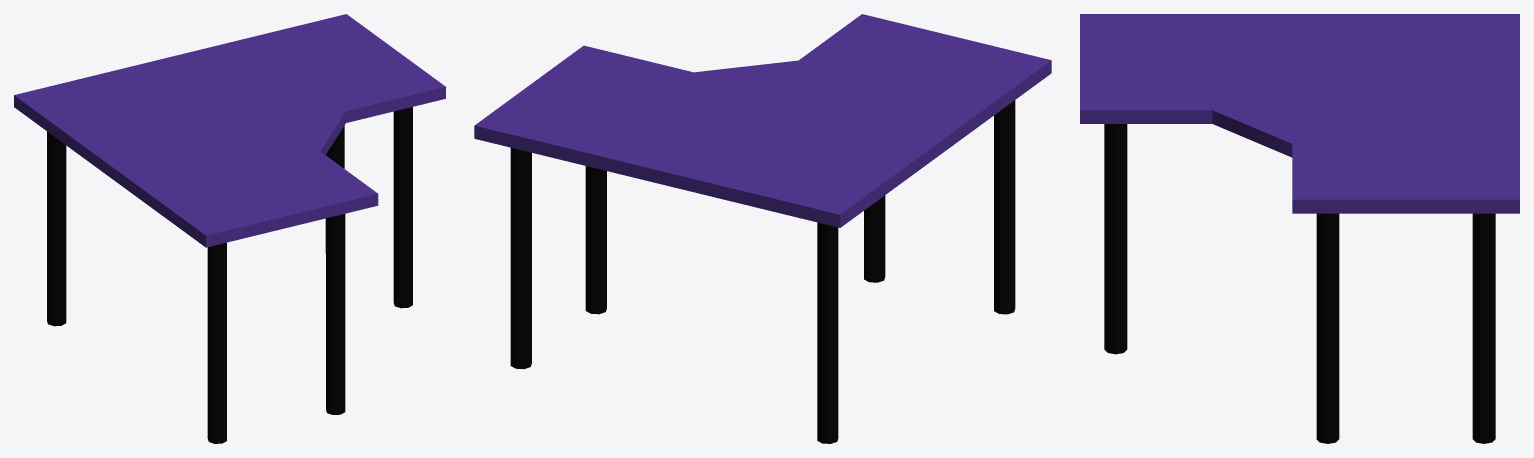
The model's file is table_corner2.fbx.
3 renders of one model, left to right at view 1: azimuth 30°, elevation 25°; view 2: azimuth 150°, elevation 25°; view 3: azimuth 270°, elevation 25°, orthographic. The views are drawn at different scales.
Parts seen in each view (by area): view 1: table_corner2; view 2: table_corner2; view 3: table_corner2.
Part boxes in pixels (left/top/right/bottom): table_corner2: left=14, top=14, right=445, bottom=443; table_corner2: left=474, top=14, right=1051, bottom=443; table_corner2: left=1080, top=14, right=1519, bottom=443.
Bounding box in the file's own units: 116 × 74 × 116.
